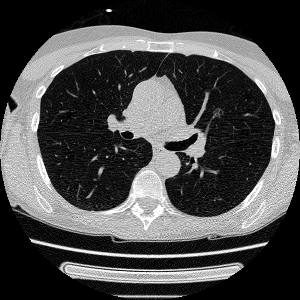nodule: (213, 108, 223, 118)
